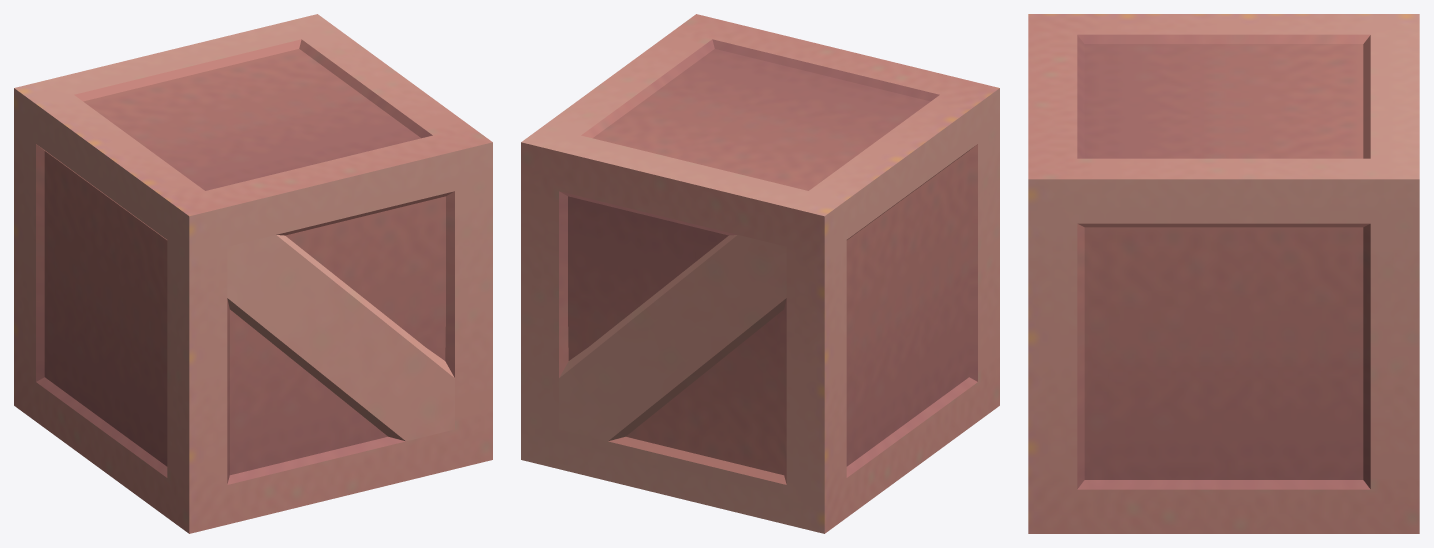
The model's file is Crate.fbx.
The picture shows the model from 3 angles, left to right: view 1: azimuth 30°, elevation 25°; view 2: azimuth 150°, elevation 25°; view 3: azimuth 270°, elevation 25°; orthographic projection. The views are drawn at different scales.
Parts seen in each view (by area): view 1: pCube9; view 2: pCube9; view 3: pCube9.
Boxes of the visible parts, x1=… form: pCube9: x1=14, y1=14, x2=492, y2=533; pCube9: x1=521, y1=14, x2=999, y2=533; pCube9: x1=1028, y1=14, x2=1419, y2=533.
Size of the model in its own units: 2.5 by 2.5 by 2.5.
